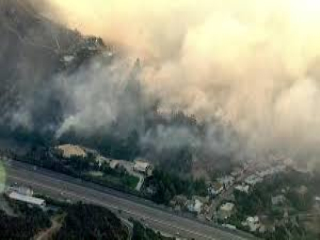smoke: (24, 54, 319, 161)
